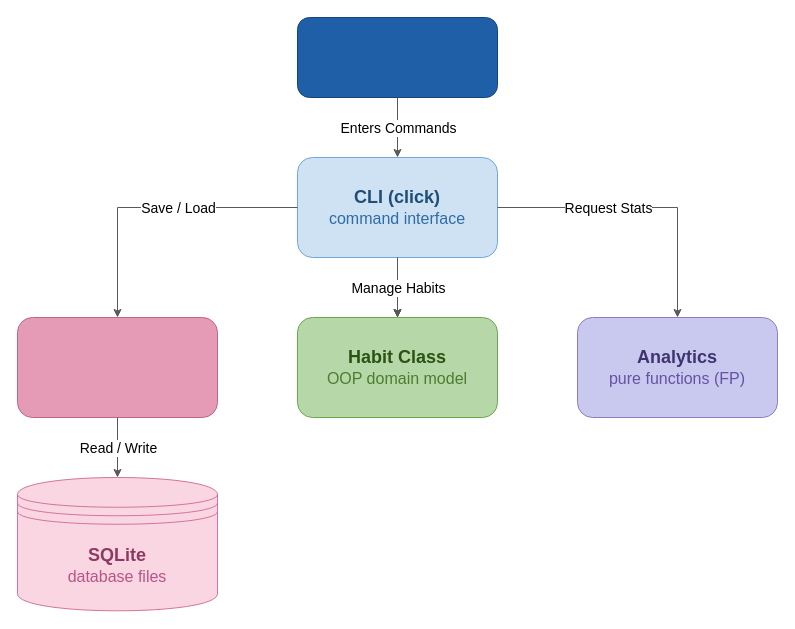
The diagram is 795 pixels wide and 629 high, and some of its shapes have lost their labels. The centre of each missing label's shape, as x and y in pixels:
Storage Layer wraps sqlite3: point (117, 367)
User: point (397, 57)
